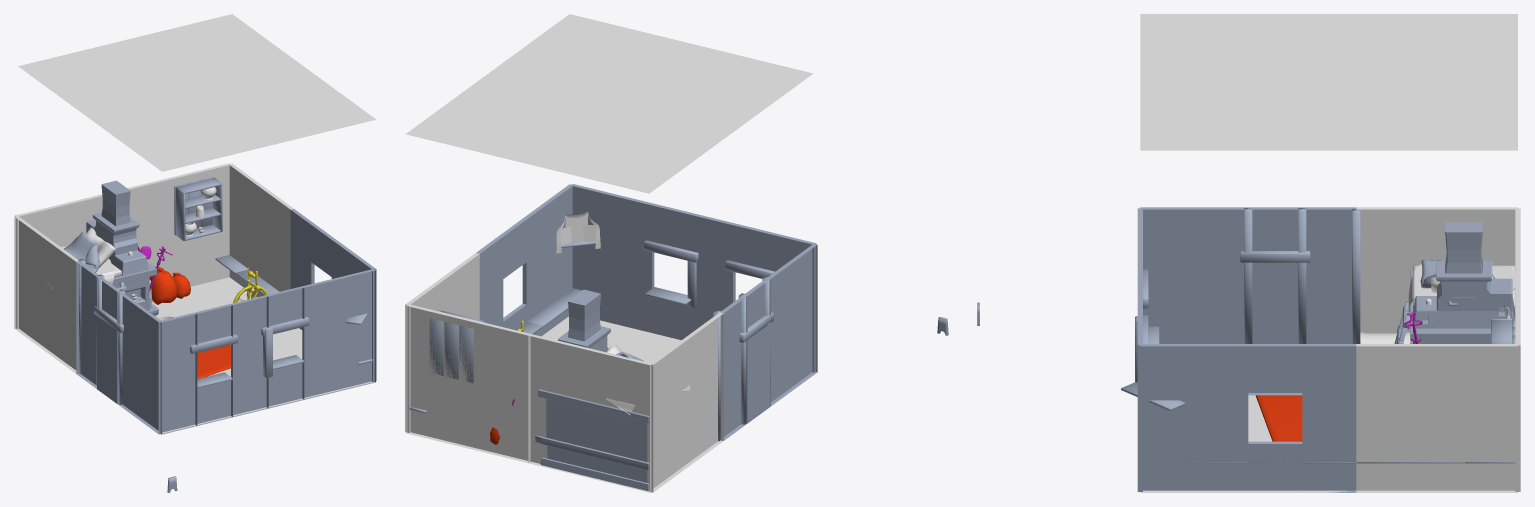
The model's file is HOME_CUT_SCENE1.fbx.
3 views of the same model, side by side, from view 1: azimuth 30°, elevation 25°; view 2: azimuth 150°, elevation 25°; view 3: azimuth 270°, elevation 25° (orthographic). The views are drawn at different scales.
Parts seen in each view (by area): view 1: Plane.001, module_block 1 by 2, module_block 3 by 3_ruv.001, module_block 3 by 3_ruv.003, module_block 3 by 3_ruv.004, module_block 1 by 2.001, module_block 1 by 3.003, bake_low, module_block 1 by 3.002, Plane, module_block 3 by 3_ruv.002, module_block 1 by 3 (+19 smaller); view 2: Plane.001, module_block 3 by 3_ruv.003, bake_low, module_block 3 by 3_ruv.001, module_block 1 by 2, module_block 3 by 3_ruv.002, module_block 1 by 2.001, module_block 1 by 2.002, module_block 1 by 3.002, module_block 3 by 3_ruv.004, module_block 1 by 3, module_block 1 by 3.001 (+14 smaller); view 3: Plane.001, module_block 3 by 3_ruv.004, module_block 1 by 2.002, module_block 1 by 2.001, module_block 3 by 3_ruv.001, module_block 1 by 3.001, bake_low, module_block 1 by 3, module_door_low, module_block 1 by 1.006, module_block 1 by 1.005, module_block 1 by 1 (+9 smaller).
Boxes of the visible parts, x1,y1,x2,y2 form: Plane.001: (18,14,375,171); module_block 1 by 2: (302,269,375,399); module_block 3 by 3_ruv.001: (14,216,78,373); module_block 3 by 3_ruv.003: (127,163,230,286); module_block 3 by 3_ruv.004: (229,163,293,297); module_block 1 by 2.001: (118,292,162,434); module_block 1 by 3.003: (160,312,197,434); bake_low: (86,180,158,315); module_block 1 by 3.002: (231,295,268,417); Plane: (152,277,372,433); module_block 3 by 3_ruv.002: (15,194,102,328); module_block 1 by 3: (76,261,99,388); Plane.001: (405,14,813,193); module_block 3 by 3_ruv.003: (406,304,530,462); bake_low: (535,289,649,491); module_block 3 by 3_ruv.001: (649,312,723,492); module_block 1 by 2: (571,184,654,332); module_block 3 by 3_ruv.002: (528,334,651,492); module_block 1 by 2.001: (768,243,817,406); module_block 1 by 2.002: (522,184,572,336); module_block 1 by 3.002: (692,213,735,331); module_block 3 by 3_ruv.004: (405,253,479,432); module_block 1 by 3: (721,295,747,440); module_block 1 by 3.001: (476,235,503,326); Plane.001: (1140,14,1517,150); module_block 3 by 3_ruv.004: (1356,344,1517,492); module_block 1 by 2.002: (1140,344,1248,490); module_block 1 by 2.001: (1140,207,1248,343); module_block 3 by 3_ruv.001: (1356,207,1517,343); module_block 1 by 3.001: (1302,344,1356,492); bake_low: (1410,222,1515,343); module_block 1 by 3: (1302,207,1356,343); module_door_low: (1252,262,1298,343); module_block 1 by 1.006: (1248,344,1302,395); module_block 1 by 1.005: (1248,441,1302,490); module_block 1 by 1: (1248,207,1302,250).
Size of the model in its own units: 1570 by 1403 by 2015.
